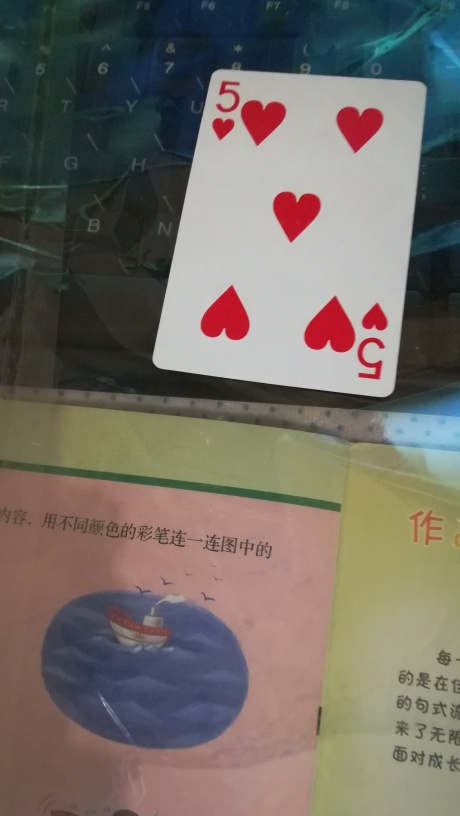hx 5: (151, 67, 426, 407)
